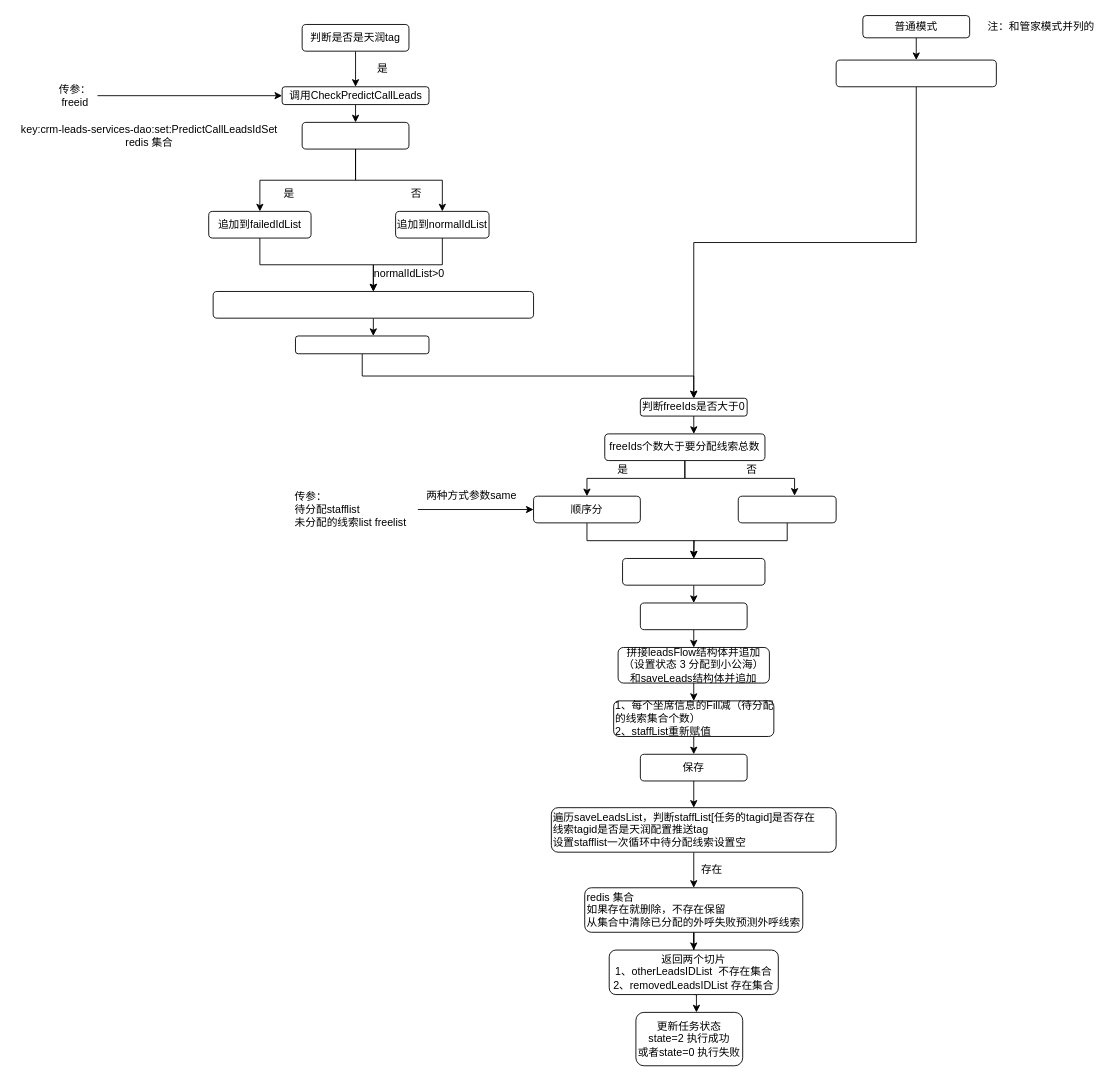
Some shapes in this 1119 by 1081 pixel diagram are drawn without their labels. Here are the shapes that lost their labels. From the top down, the centre of each, then its label:
point 915,73: leadsId线索随机分配赋值freeIds
point 355,135: 判断是否在集合
point 373,304: 查询id= normalIdList 的线索 ，将线索状态置为24，staffid=0，extendIndex="YCWH"，更新leads_public表
point 362,344: 赋值freeIds为failedIdList
point 786,509: 平均分
point 693,571: 返回staffList，坐席列表详情
point 693,616: 遍历staffList
